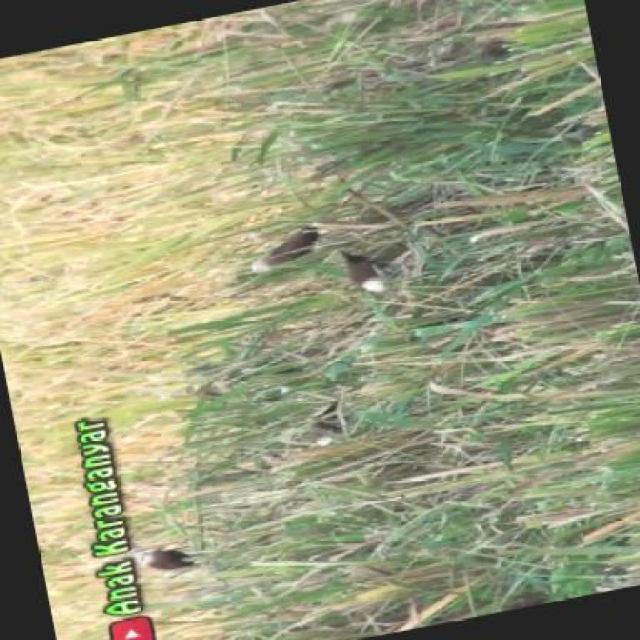Bird: (238, 227, 332, 282), (119, 540, 202, 586), (339, 246, 397, 305)
